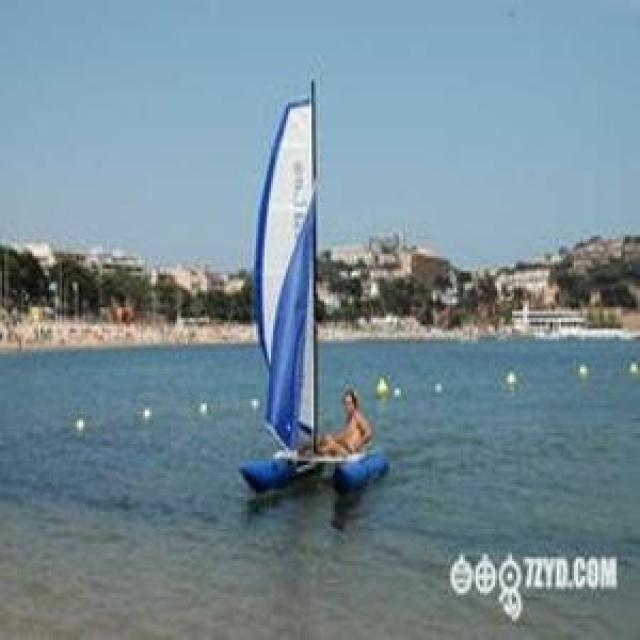sailboat: (228, 68, 381, 495)
